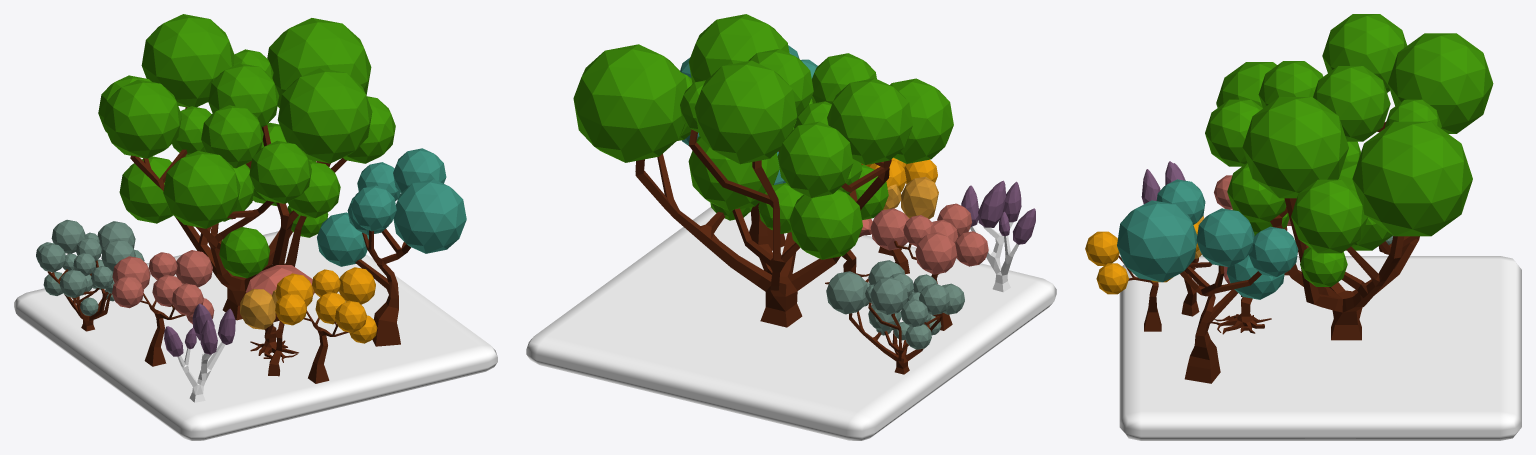
The model's file is forest.glb.
3 views of the same model, side by side, from view 1: azimuth 30°, elevation 25°; view 2: azimuth 150°, elevation 25°; view 3: azimuth 270°, elevation 25° (orthographic). The views are drawn at different scales.
Visible parts, largest first — view 1: tree crown (×3), Box, treetop (×5), trunk and branches (×7), tree; view 2: Box, tree crown (×2), treetop (×5), trunk and branches (×3); view 3: tree crown (×2), Box, trunk and branches (×4), treetop (×3), tree.
Part boxes in pixels (x1,y1,x2,y2): tree crown (×3): [98, 14, 466, 295]; Box: [14, 231, 497, 440]; treetop (×5): [36, 219, 377, 356]; trunk and branches (×7): [47, 107, 410, 402]; tree: [264, 321, 284, 376]; Box: [526, 207, 1056, 440]; tree crown (×2): [573, 14, 953, 259]; treetop (×5): [826, 157, 1035, 349]; trunk and branches (×3): [635, 129, 1018, 374]; tree crown (×2): [1117, 14, 1493, 299]; Box: [1119, 256, 1521, 440]; trunk and branches (×4): [1118, 121, 1419, 383]; treetop (×3): [1085, 161, 1291, 294]; tree: [1181, 258, 1199, 316].
Bounding box in the file's own units: 0.5333 × 0.4372 × 0.5428.
17 materials, 1 textured.
